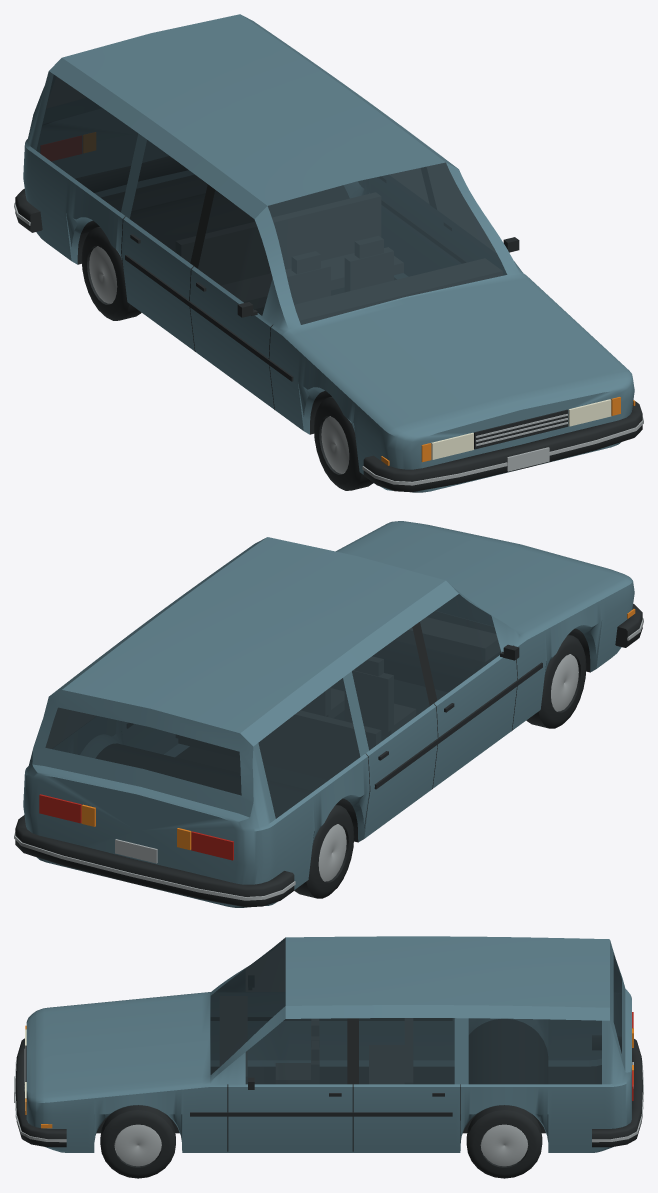
File: customer-car-wagon.glb
3 renders of one model, top to bottom at view 1: azimuth 30°, elevation 25°; view 2: azimuth 150°, elevation 25°; view 3: azimuth 270°, elevation 25°, orthographic. The views are drawn at different scales.
Visible parts, largest first — view 1: Wagon_BodyPaint, Wagon_WindowGlass, Wagon_RubberTrim, Wagon_InteriorCloth, Wagon_WheelMetal, Wagon_Headlamp, Wagon_TailLamp, Wagon_AmberLens; view 2: Wagon_BodyPaint, Wagon_WindowGlass, Wagon_RubberTrim, Wagon_InteriorCloth, Wagon_WheelMetal, Wagon_TailLamp, Wagon_AmberLens; view 3: Wagon_BodyPaint, Wagon_WindowGlass, Wagon_RubberTrim, Wagon_InteriorCloth, Wagon_WheelMetal.
Part boxes in pixels (left/top/right/bottom): Wagon_BodyPaint: left=23, top=14, right=634, bottom=492; Wagon_WindowGlass: left=36, top=74, right=507, bottom=324; Wagon_RubberTrim: left=15, top=156, right=642, bottom=492; Wagon_InteriorCloth: left=176, top=193, right=502, bottom=324; Wagon_WheelMetal: left=14, top=202, right=643, bottom=485; Wagon_Headlamp: left=431, top=399, right=611, bottom=459; Wagon_TailLamp: left=41, top=136, right=81, bottom=160; Wagon_AmberLens: left=83, top=132, right=635, bottom=465; Wagon_BodyPaint: left=23, top=521, right=634, bottom=907; Wagon_WindowGlass: left=45, top=594, right=501, bottom=818; Wagon_RubberTrim: left=15, top=604, right=642, bottom=907; Wagon_InteriorCloth: left=176, top=617, right=500, bottom=779; Wagon_WheelMetal: left=14, top=618, right=643, bottom=900; Wagon_TailLamp: left=39, top=794, right=233, bottom=860; Wagon_AmberLens: left=81, top=609, right=635, bottom=849; Wagon_BodyPaint: left=26, top=936, right=631, bottom=1152; Wagon_WindowGlass: left=210, top=937, right=621, bottom=1084; Wagon_RubberTrim: left=15, top=1017, right=642, bottom=1178; Wagon_InteriorCloth: left=220, top=996, right=412, bottom=1083; Wagon_WheelMetal: left=14, top=1049, right=643, bottom=1166.
Bounding box in the file's own units: 6.34 × 4.64 × 15.83.
